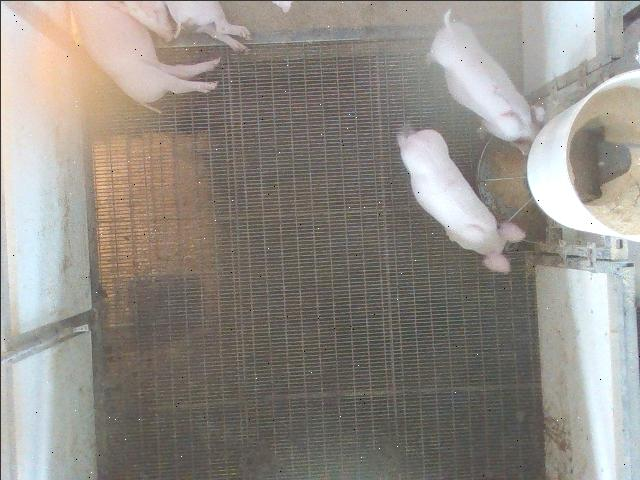pig-5: (430, 11, 542, 154)
